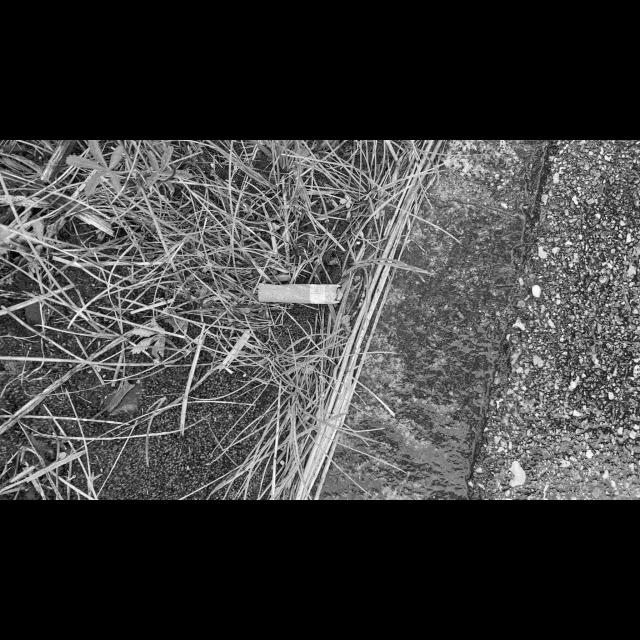cigarette: (257, 283, 344, 305)
